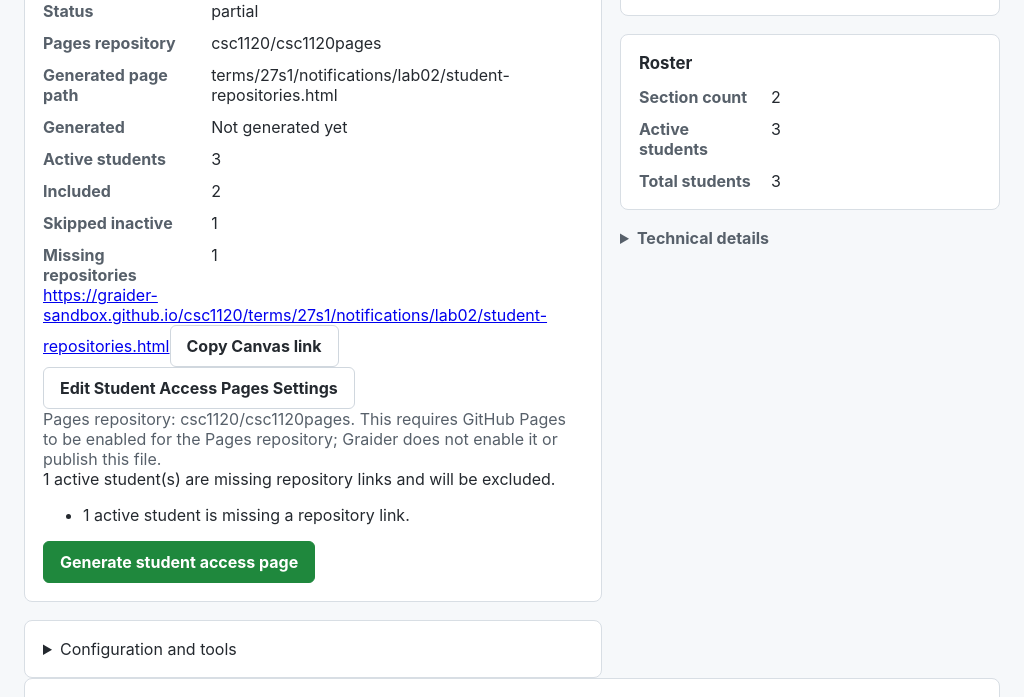
Test: AssignmentDetailPage › shows and generates the student repository access page with a copyable Canvas link
The image size is (1024, 697).
(page scrolled)
Expected: the text "terms/27s1/notifications/lab02/student-repositories.html" is shown, left=211, top=65, right=510, bottom=105
Expected: the text "GitHub Pages to be enabled" is shown, left=43, top=409, right=566, bottom=469
Click the button "Copy Canvas link": (254, 346) left=170, top=325, right=339, bottom=367
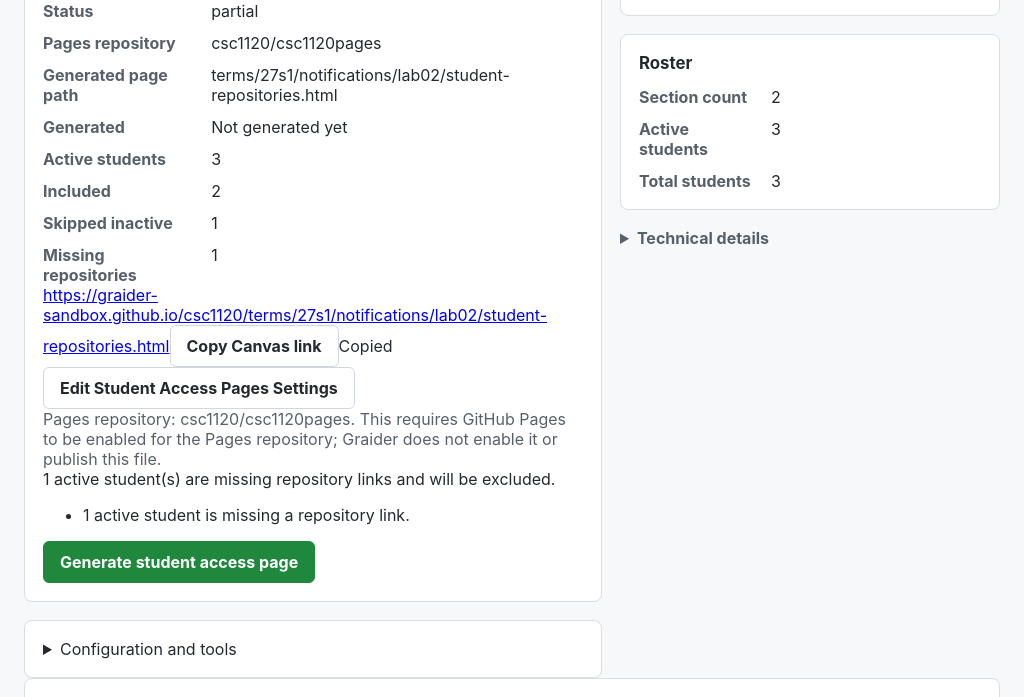
Click the button "Generate student access page": (179, 562) left=43, top=541, right=315, bottom=583
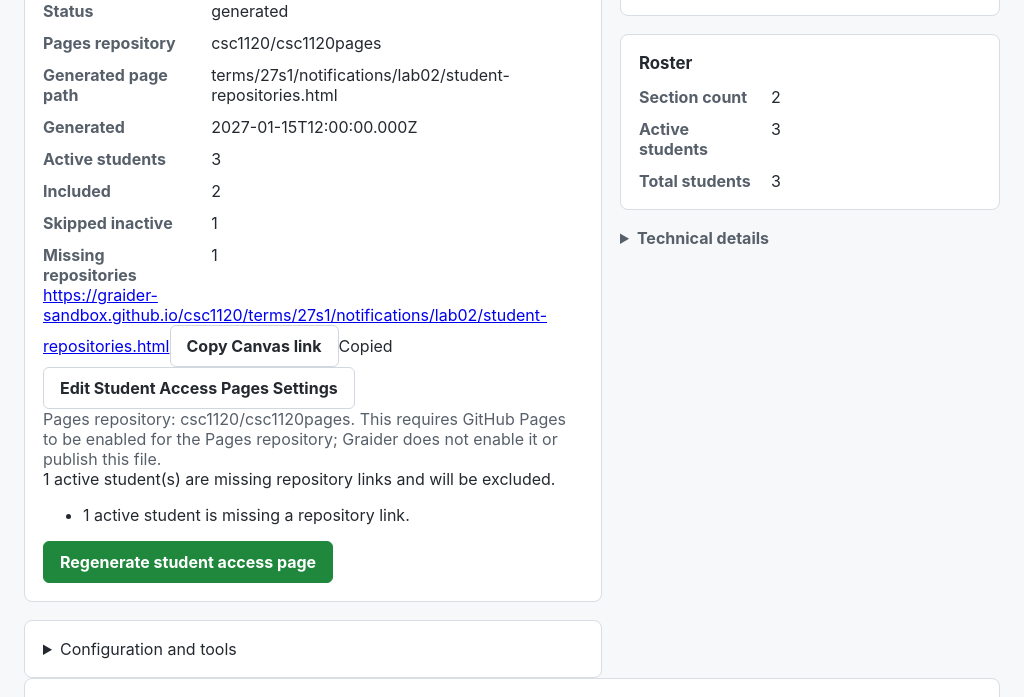
Expected: the button "Regenerate student access page" is shown, left=43, top=541, right=333, bottom=583
